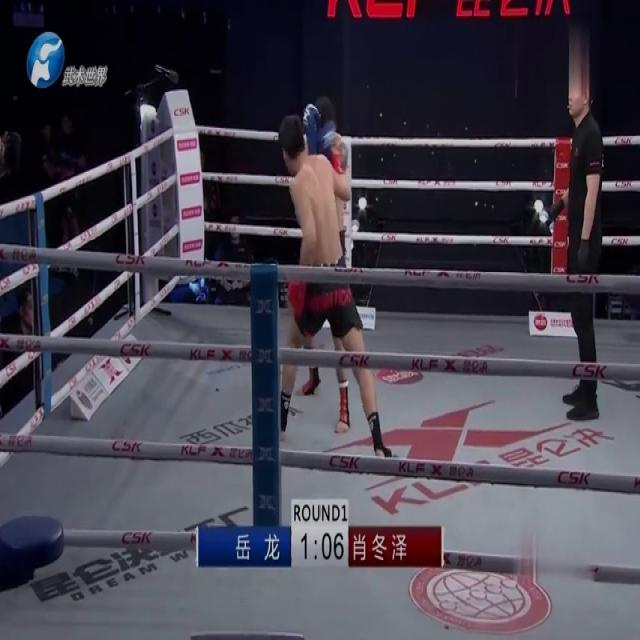fight: (281, 94, 384, 467)
non-fight: (552, 68, 612, 420)
